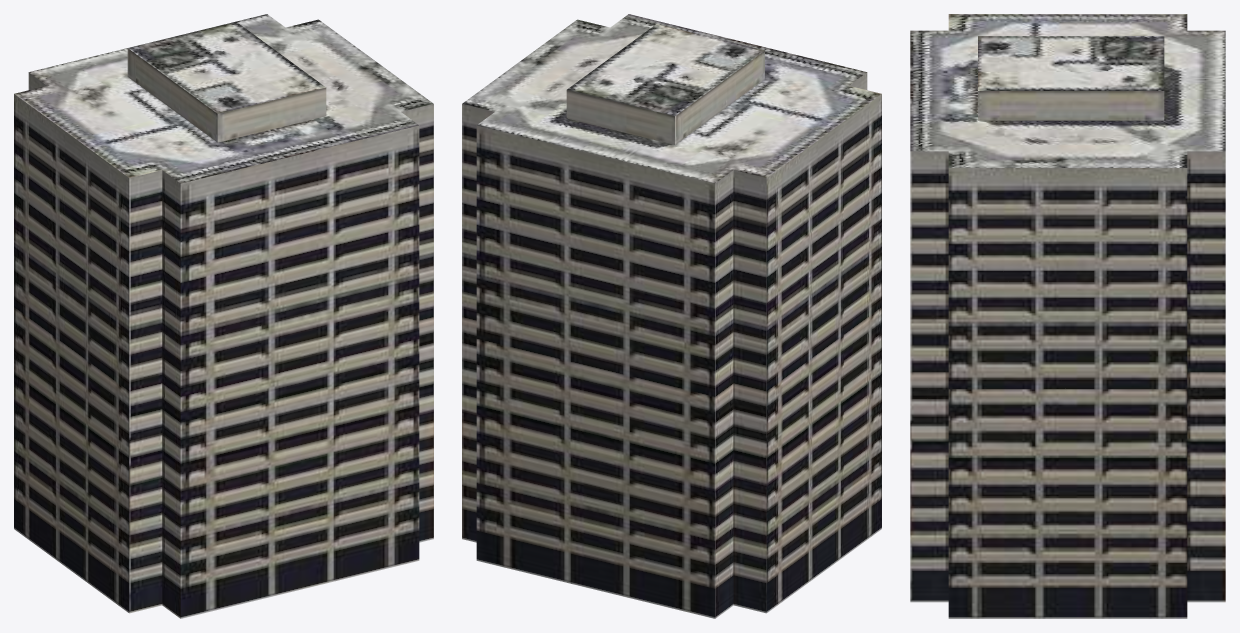
The picture shows the model from 3 angles, left to right: view 1: azimuth 30°, elevation 25°; view 2: azimuth 150°, elevation 25°; view 3: azimuth 270°, elevation 25°; orthographic projection. The views are drawn at different scales.
Parts seen in each view (by area): view 1: b189; view 2: b189; view 3: b189.
Part boxes in pixels (box(x1,y1,x2,y2)): b189: box(14, 14, 433, 618); b189: box(462, 14, 881, 618); b189: box(910, 14, 1225, 618).
Size of the model in its own units: 52.53 by 76.49 by 45.47.
1 material, 1 textured.
